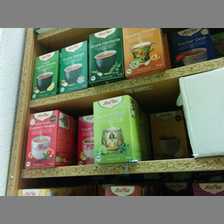tea: (93, 94, 146, 162), (24, 109, 73, 169), (89, 29, 124, 79), (58, 41, 88, 90), (30, 50, 58, 99)
